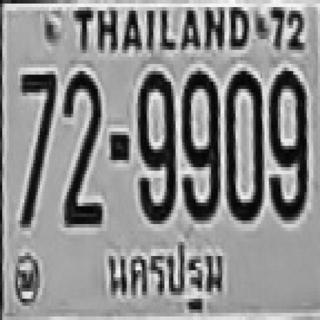N00: (224, 68, 262, 217)
N02: (61, 67, 101, 224), (62, 69, 100, 212)
N07: (20, 71, 56, 224), (20, 71, 56, 178)
N09: (267, 68, 307, 217), (180, 68, 218, 217), (136, 68, 173, 220)
P28: (103, 234, 228, 316)
